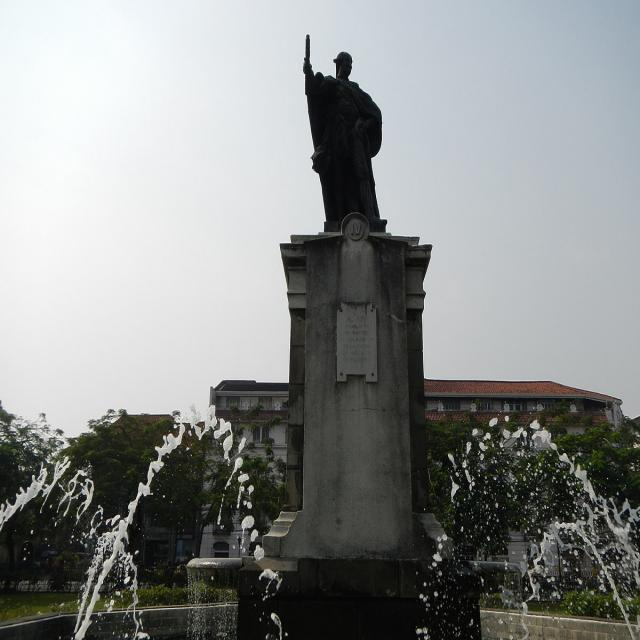King Charles IV Monument: (287, 39, 429, 563)
